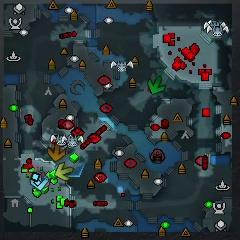x1: (40, 171, 50, 187)
x2: (55, 162, 74, 182)
x3: (31, 173, 48, 191)
x4: (146, 75, 167, 94)
x5: (47, 141, 67, 161)
